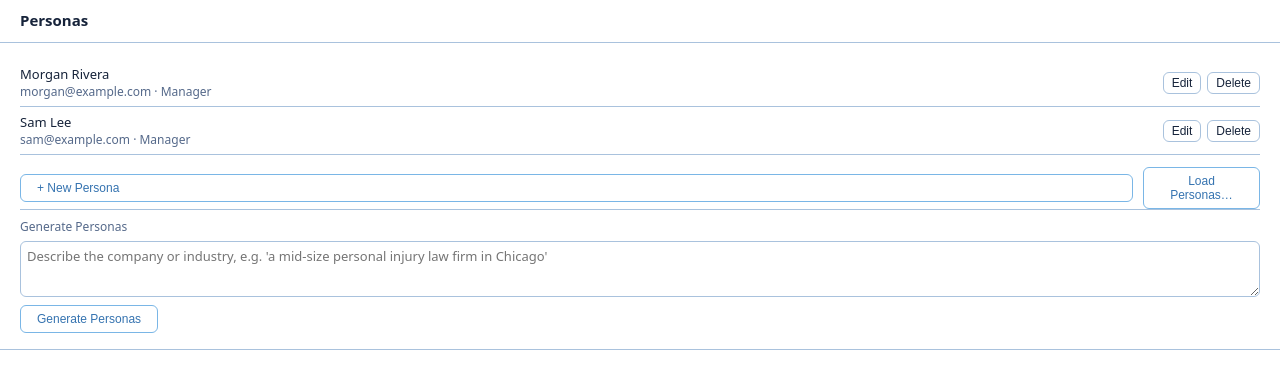
Test case: PersonasSettings › Delete removes the persona from the list and persists the remaining array
expect the text "Morgan Rivera" is shown: met, box [20,65,109,83]
Click the button with aria-label "Delete Morgan Rivera". click: click(1234, 82)
box: [1207,72,1260,94]
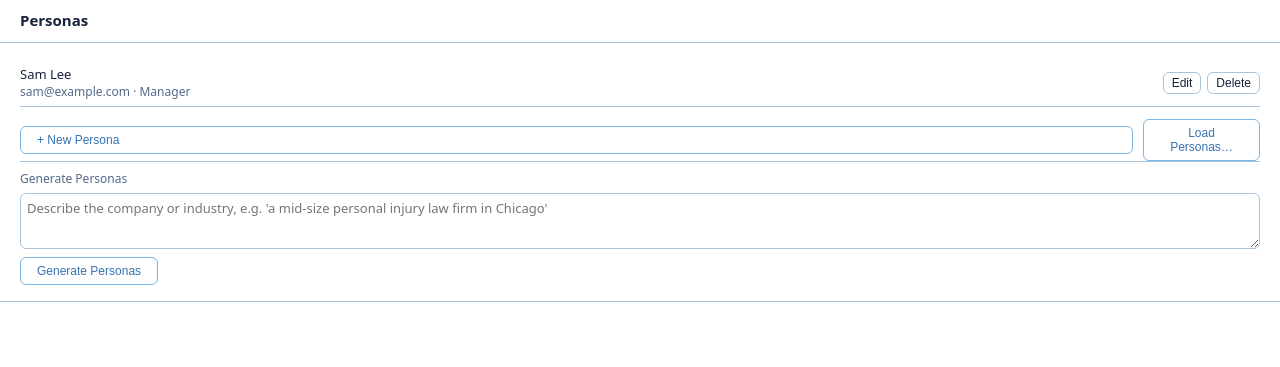
expect the text "Sam Lee" is shown: met, box [20,65,72,83]
expect the text "Morgan Rivera" is gone: met
